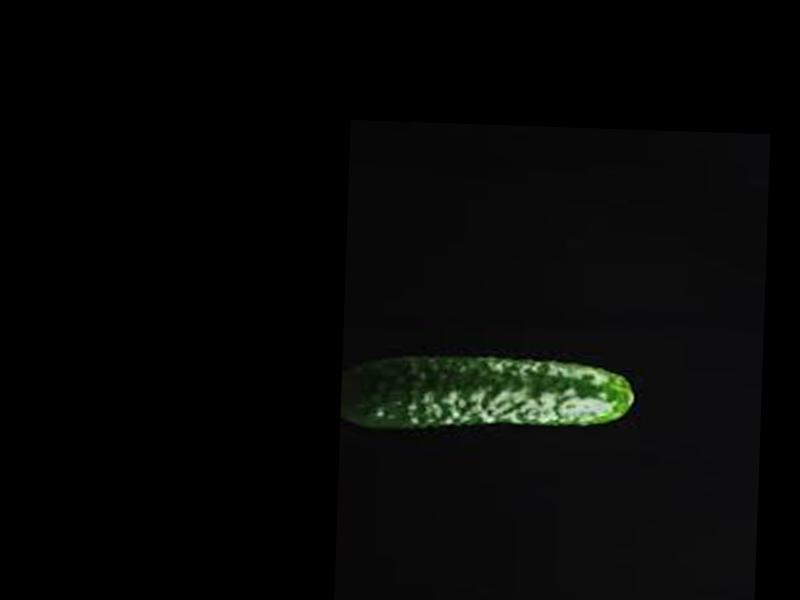Cucumber: (339, 351, 637, 438)
